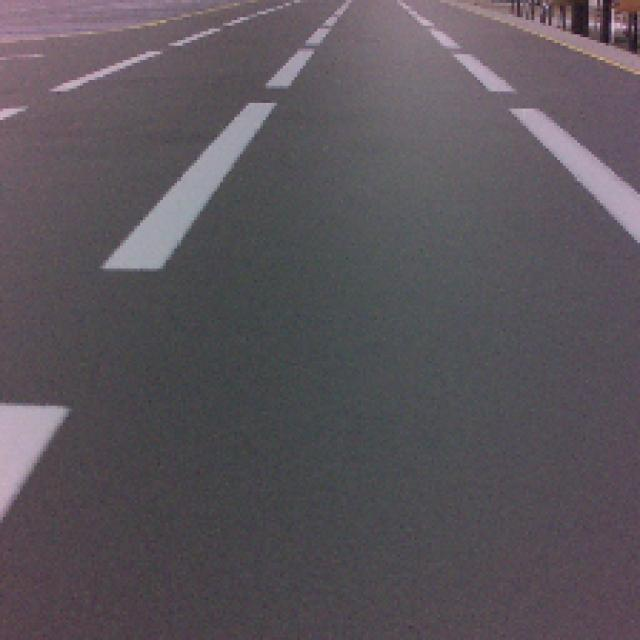Road: (0, 405, 638, 640)
